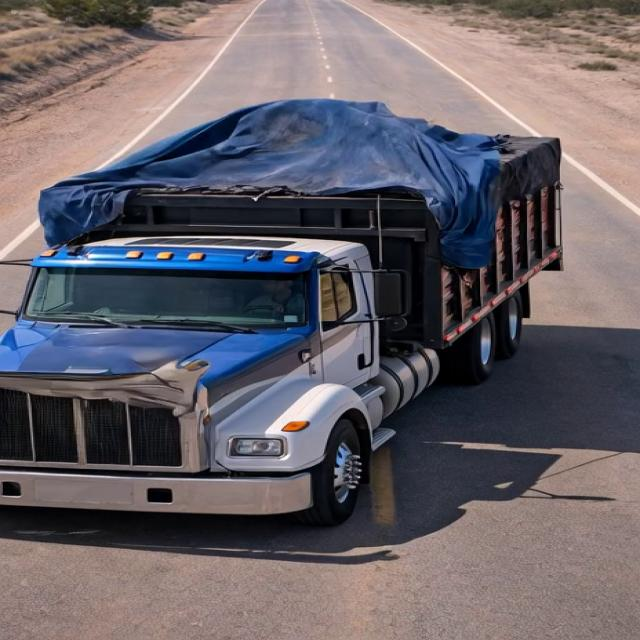trailer: (39, 95, 566, 207)
truck: (4, 65, 592, 523)
